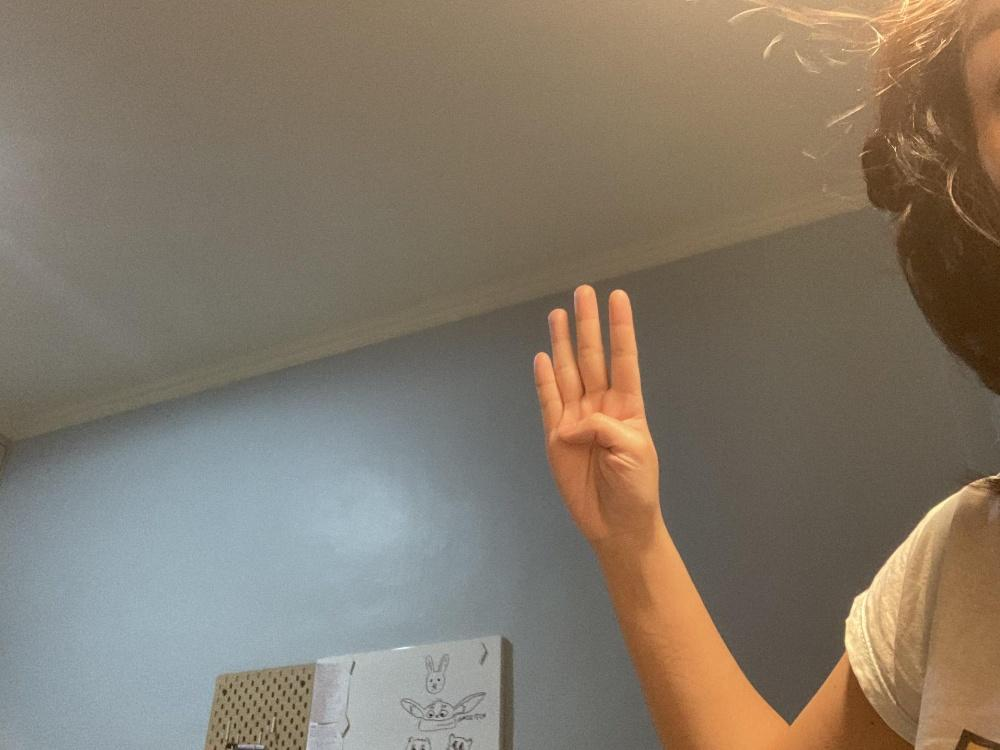b: (532, 283, 658, 536)
